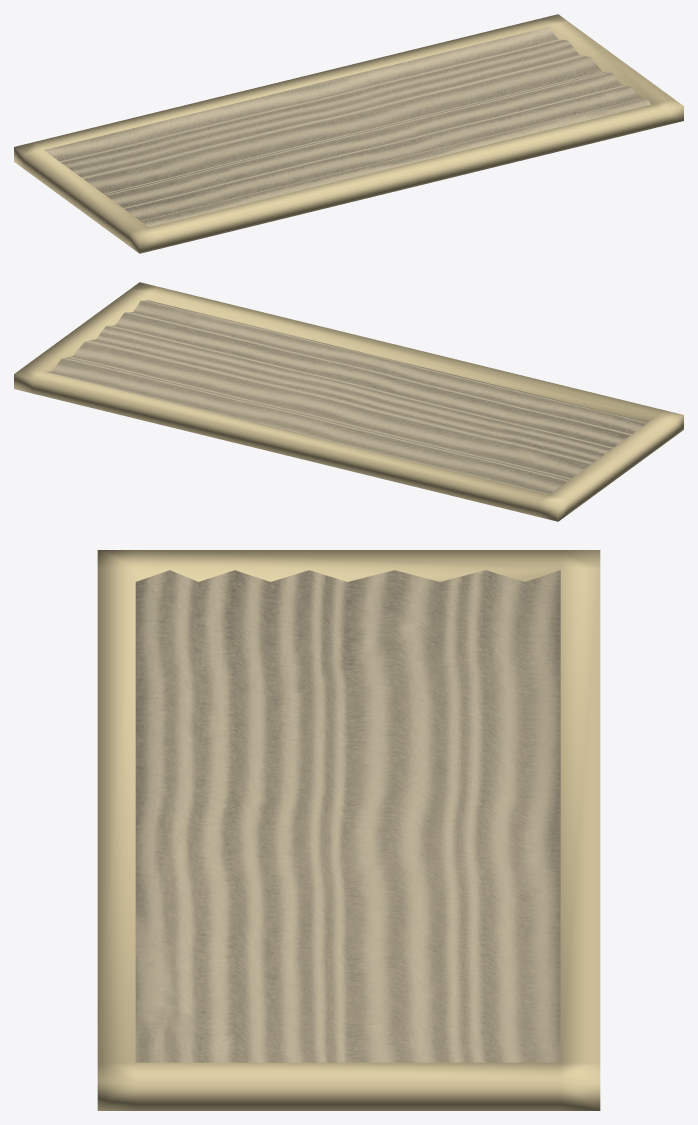
The model's file is Zen_Base.fbx.
3 renders of one model, top to bottom at view 1: azimuth 30°, elevation 25°; view 2: azimuth 150°, elevation 25°; view 3: azimuth 270°, elevation 25°, orthographic. The views are drawn at different scales.
Parts seen in each view (by area): view 1: Zen_Base; view 2: Zen_Base; view 3: Zen_Base.
Part boxes in pixels (bbox=[...]): Zen_Base: bbox=[14, 14, 683, 253]; Zen_Base: bbox=[14, 282, 683, 521]; Zen_Base: bbox=[97, 550, 600, 1110].
Size of the model in its own units: 17.57 by 0.4581 by 7.03.
